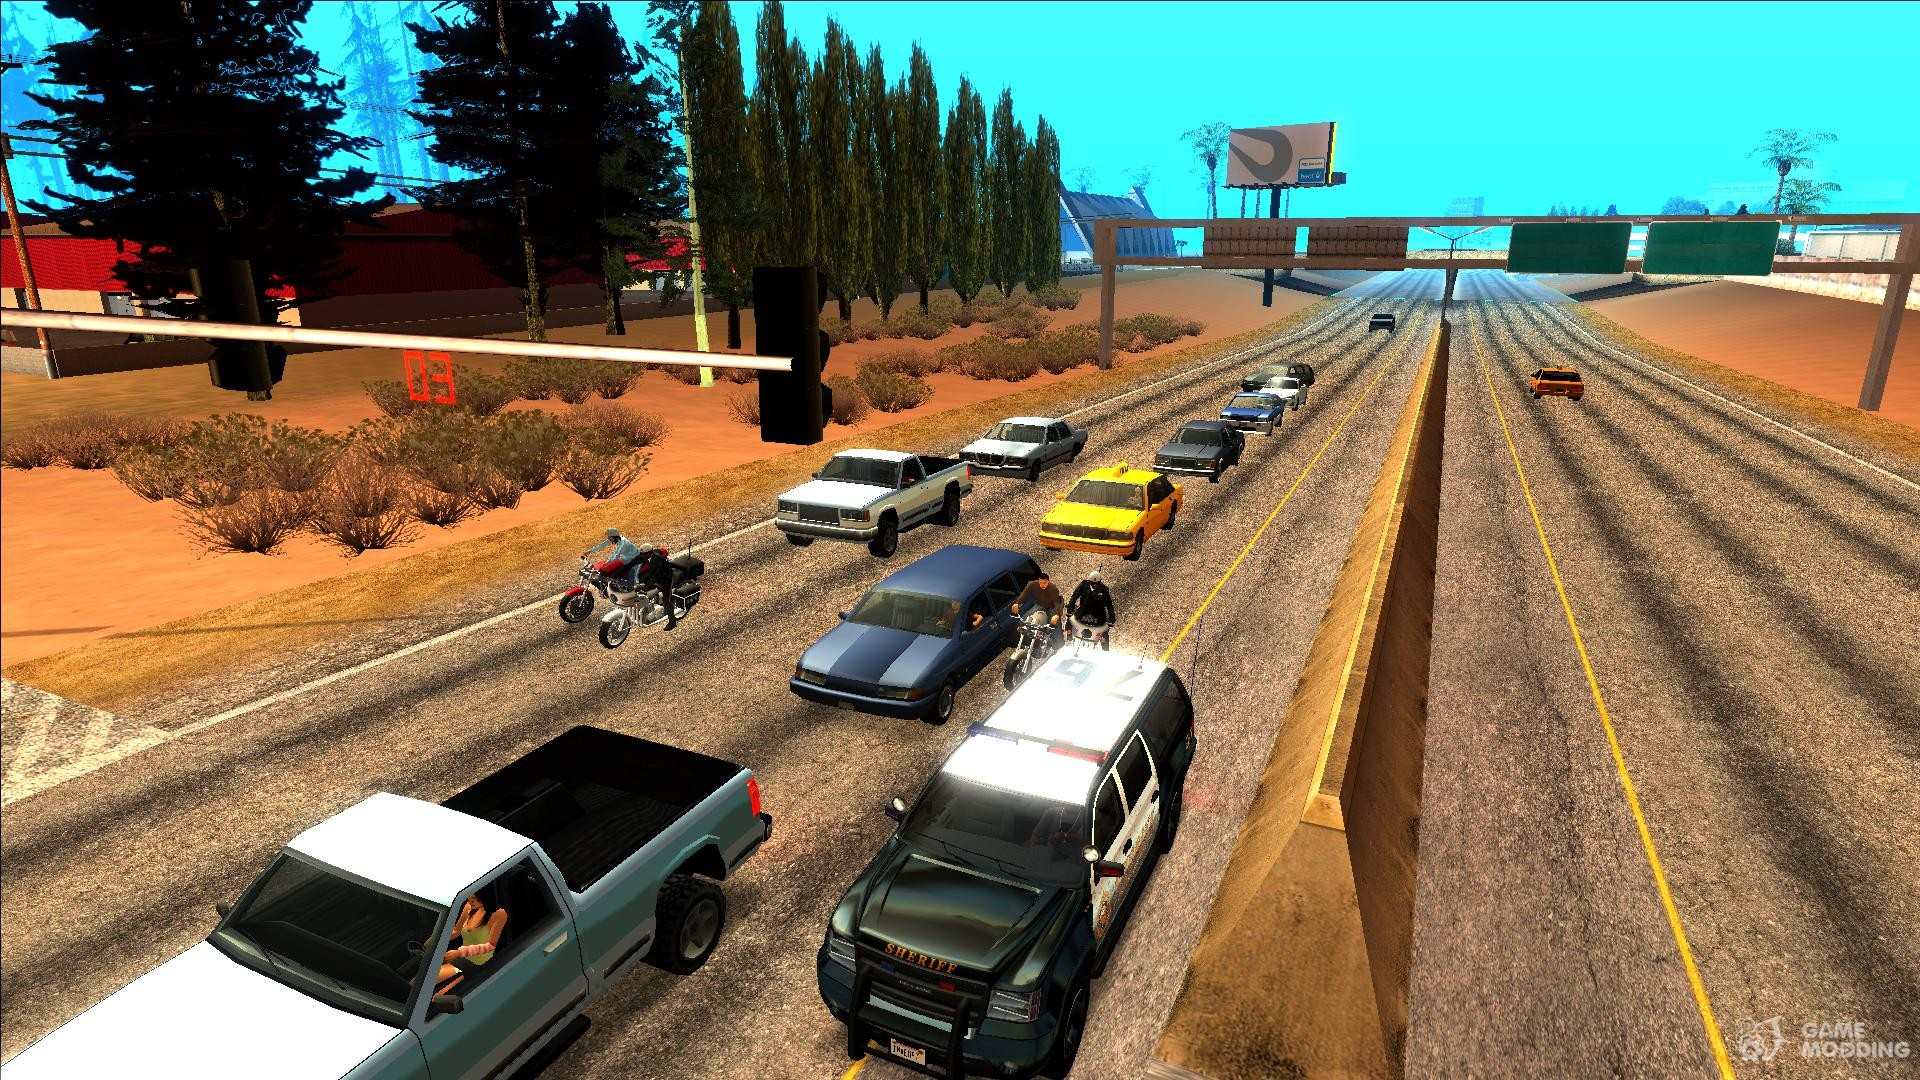bike: (603, 541, 711, 653), (562, 521, 632, 628)
car: (112, 762, 765, 1080), (808, 650, 1203, 1068), (793, 545, 1054, 708), (775, 447, 972, 553), (1036, 464, 1182, 559), (967, 419, 1088, 479), (1149, 418, 1242, 491), (1222, 388, 1282, 439), (1523, 365, 1592, 398)
